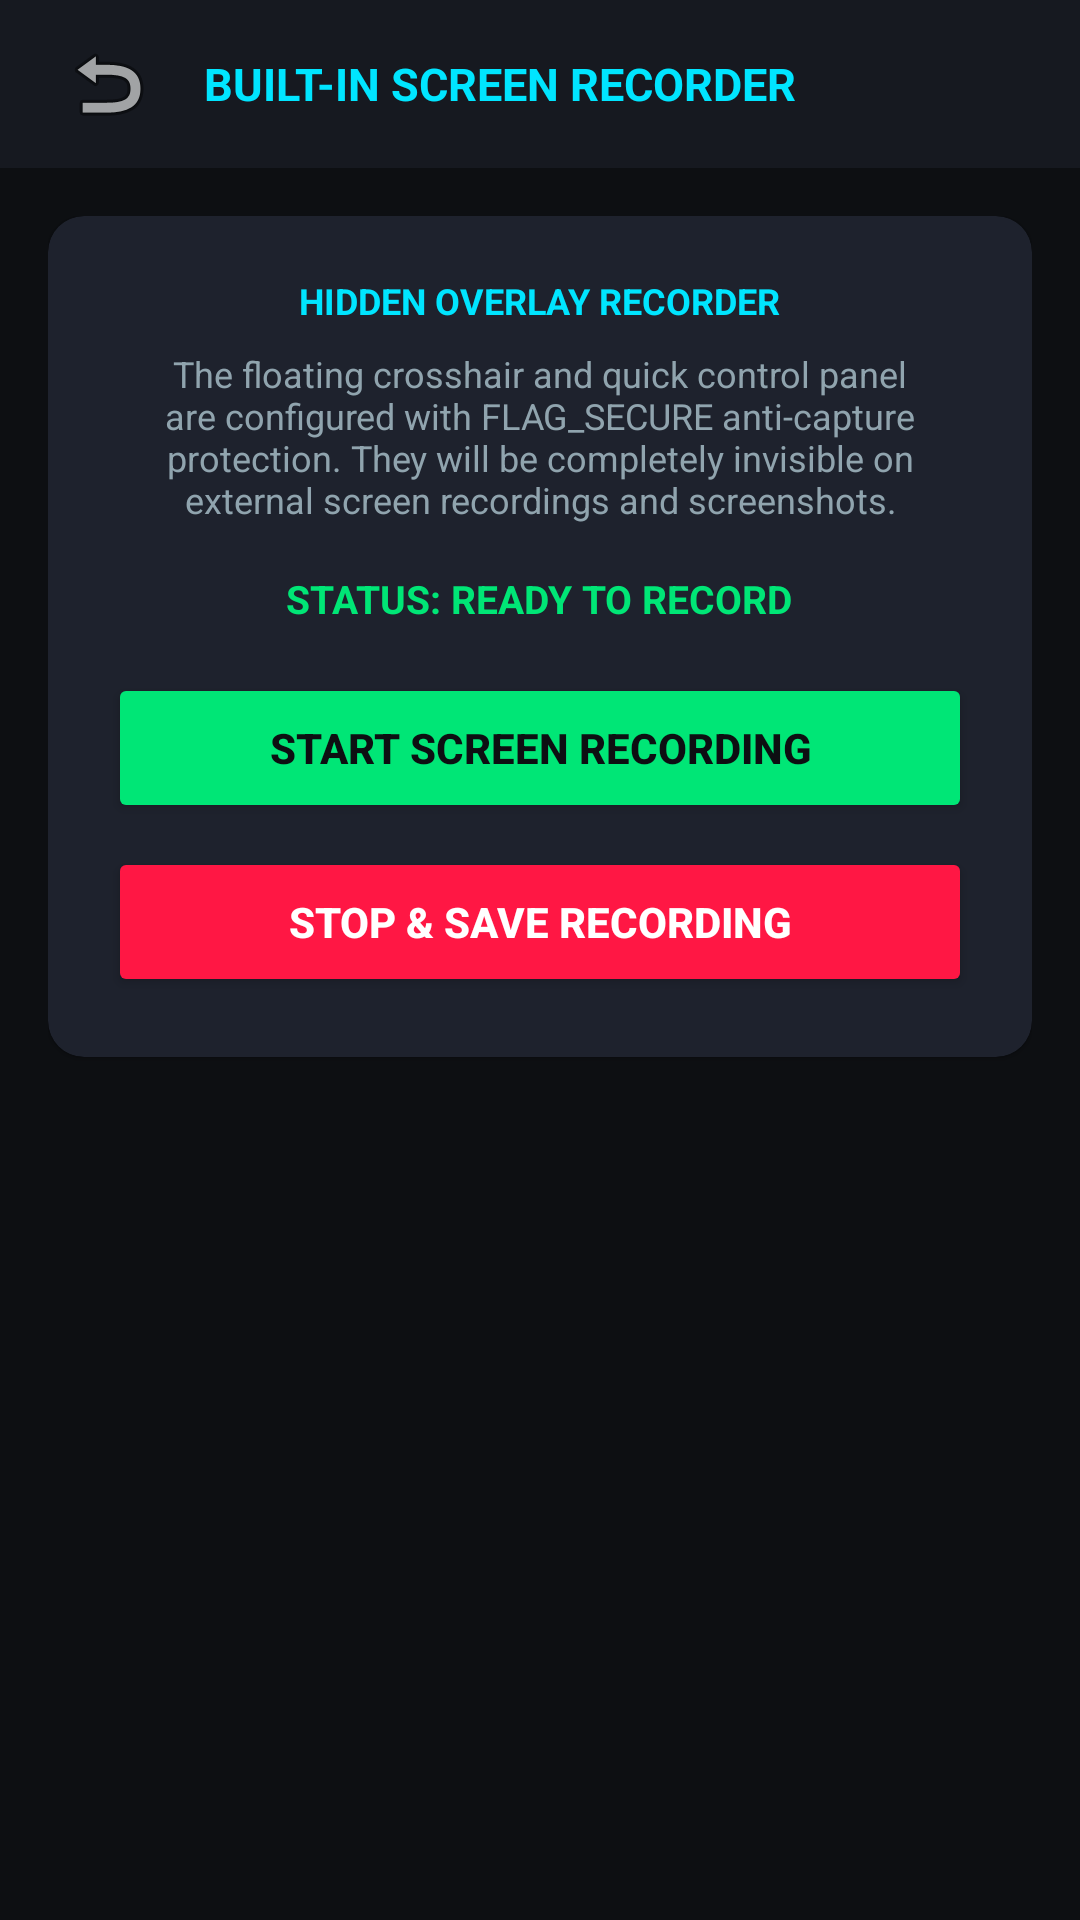

Icon click points for this 1080*1920 phone screenshot, format (x=x, y=y):
Back: (x=109, y=84)
